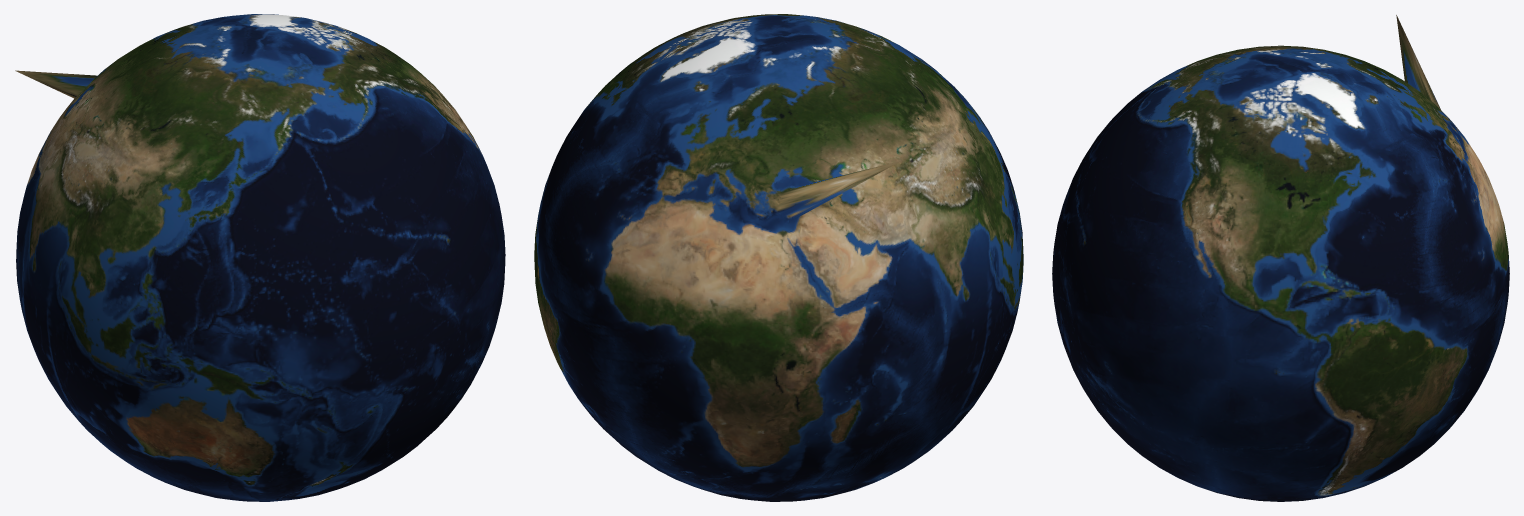
Rendered from glbtest.glb.
3 renders of one model, left to right at view 1: azimuth 30°, elevation 25°; view 2: azimuth 150°, elevation 25°; view 3: azimuth 270°, elevation 25°, orthographic. The views are drawn at different scales.
Parts seen in each view (by area): view 1: Cube.001; view 2: Cube.001; view 3: Cube.001.
Boxes of the visible parts, x1,y1,x2,y2 form: Cube.001: (15, 14, 505, 501); Cube.001: (534, 14, 1023, 501); Cube.001: (1052, 15, 1509, 501).
Size of the model in its own units: 2.34 by 2.34 by 2.34.
1 material, 1 textured.
